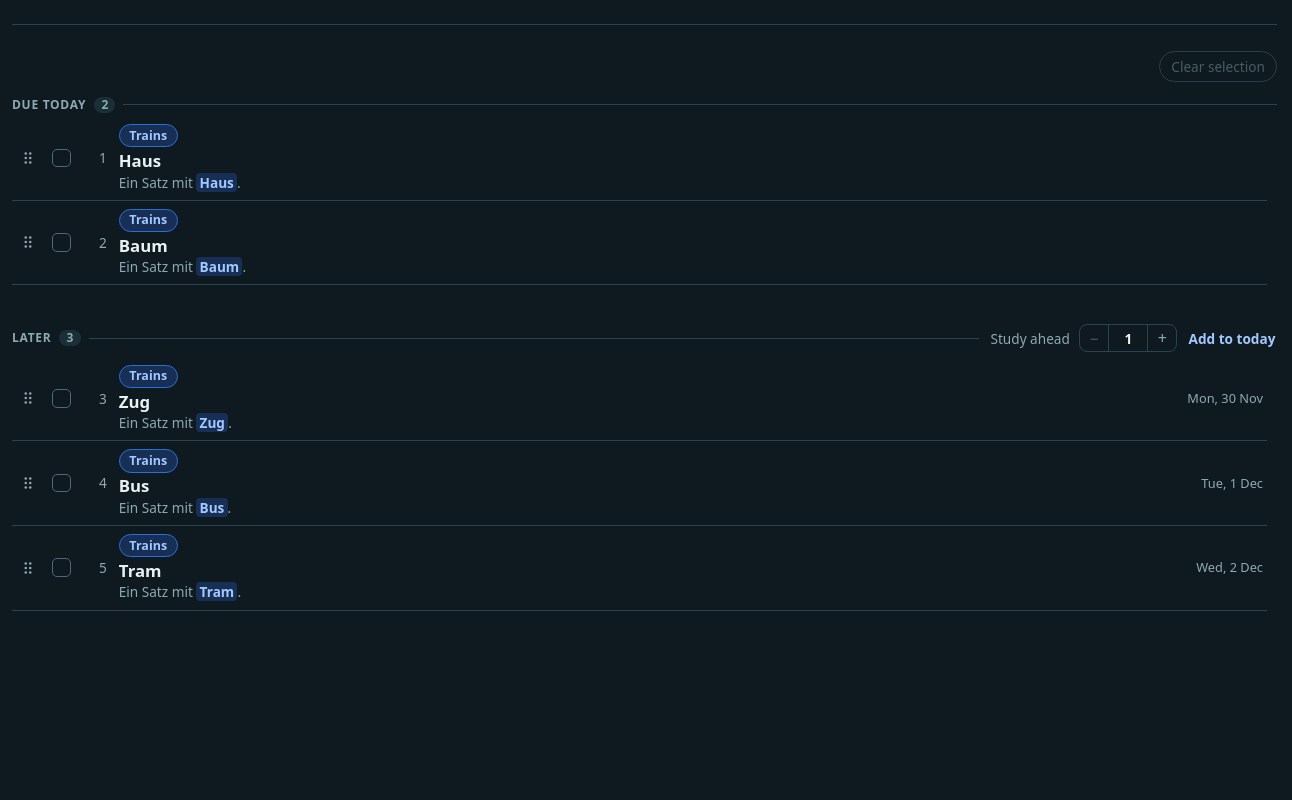
Test: a move that cannot be saved leaves the cards where they were
Click the button with class "ahead-go": coordinates (1232, 338) [1187,324,1277,353]
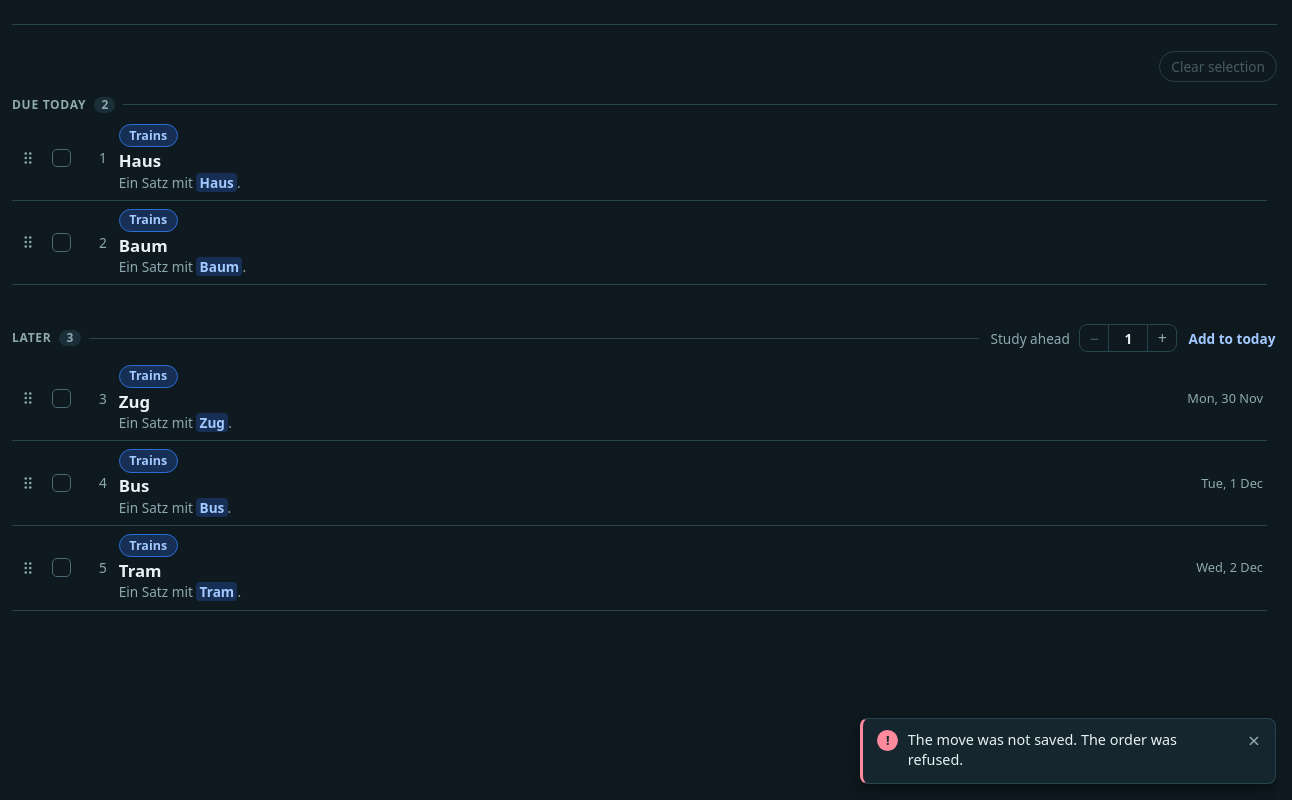
Check: the text "The move was not saved." is shown, box [908,730,1177,769]
